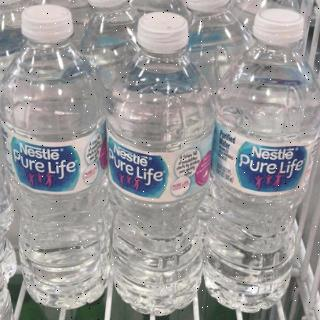Plastic-bottle: (202, 7, 320, 317), (1, 4, 113, 313), (109, 12, 217, 320)
